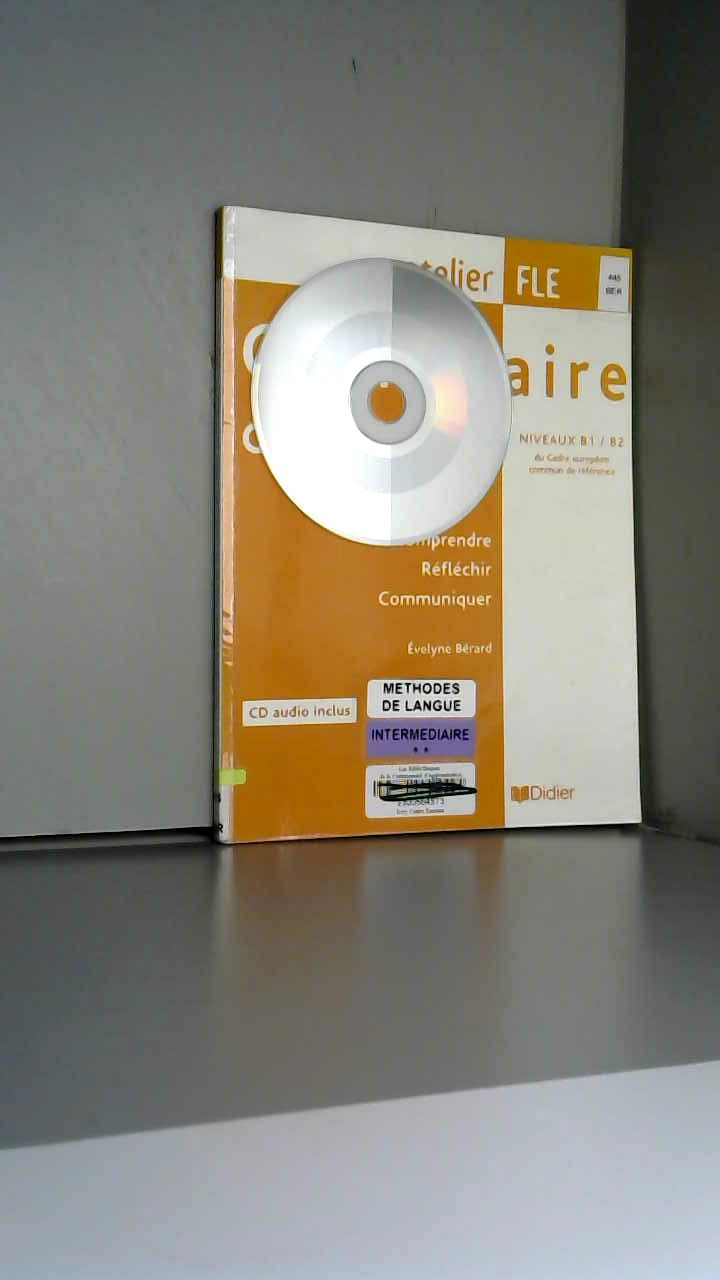book: (180, 180, 719, 942)
